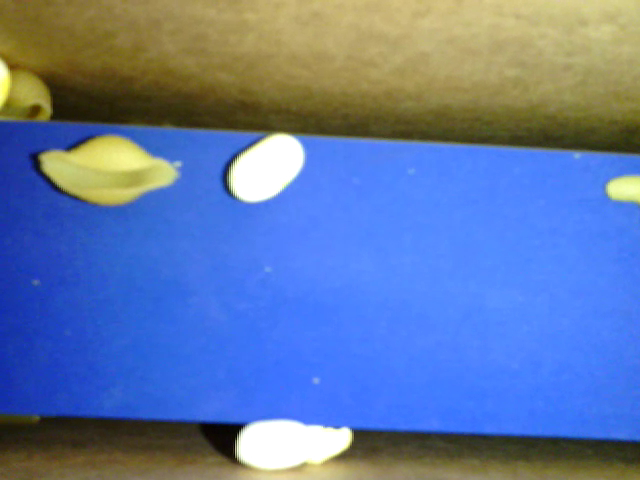shell: (34, 133, 180, 206), (2, 71, 56, 120)
